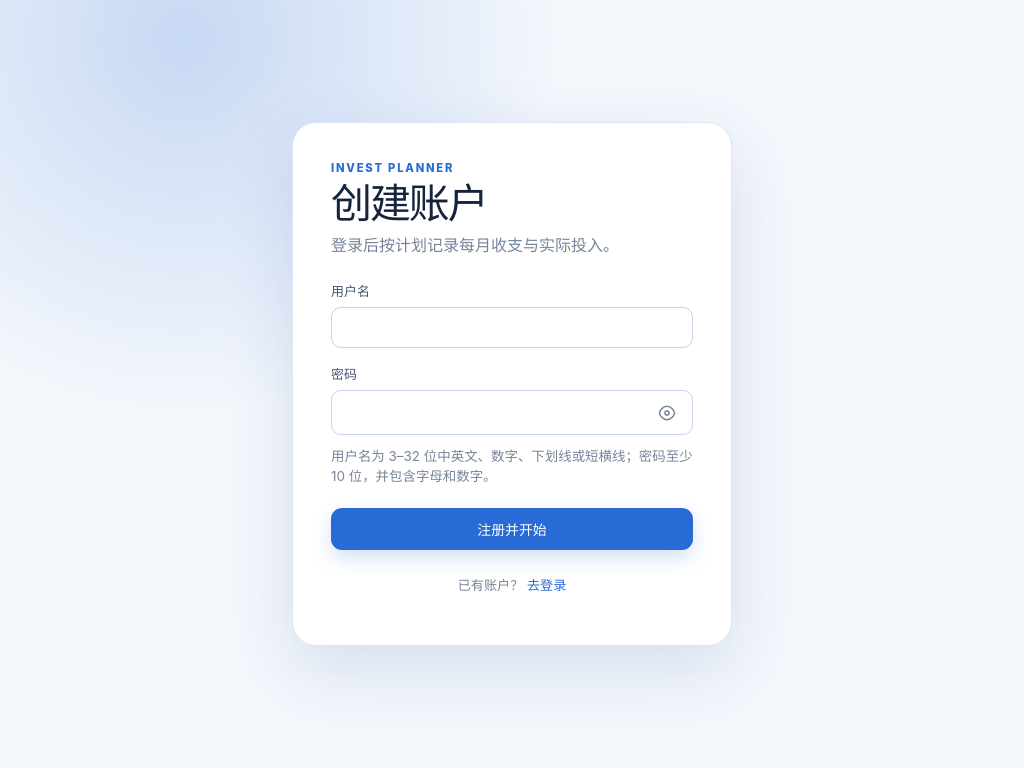
authentication routes › registers and safely opens the plan list
Type "new-user" into the field labelled "用户名" at (512, 328), box [331,307,693,348]
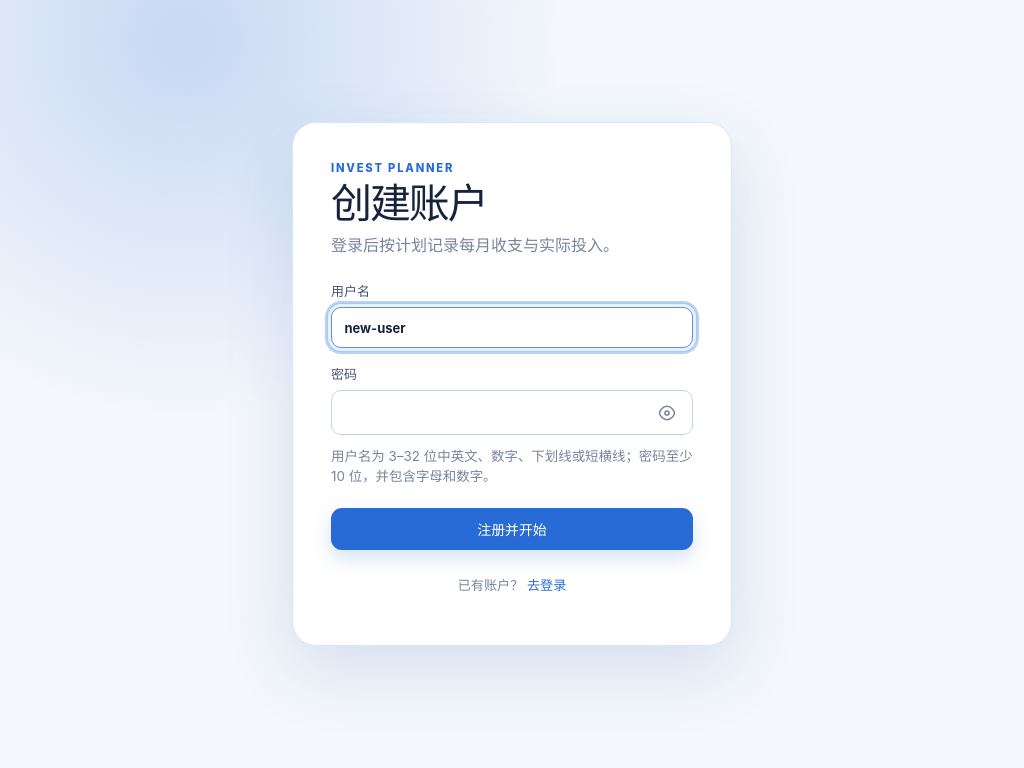
Type "securepass1" into the password field labelled "密码" at (512, 412), box [331,390,693,435]
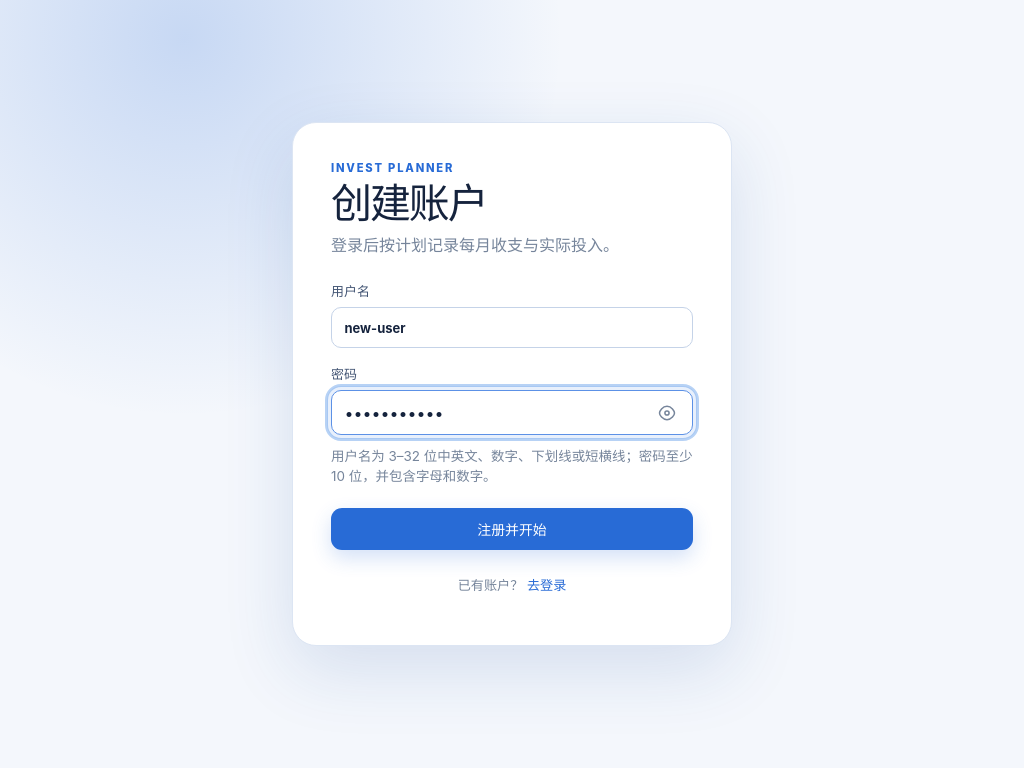
Click the button "注册并开始" at (512, 529), box [331,508,693,550]
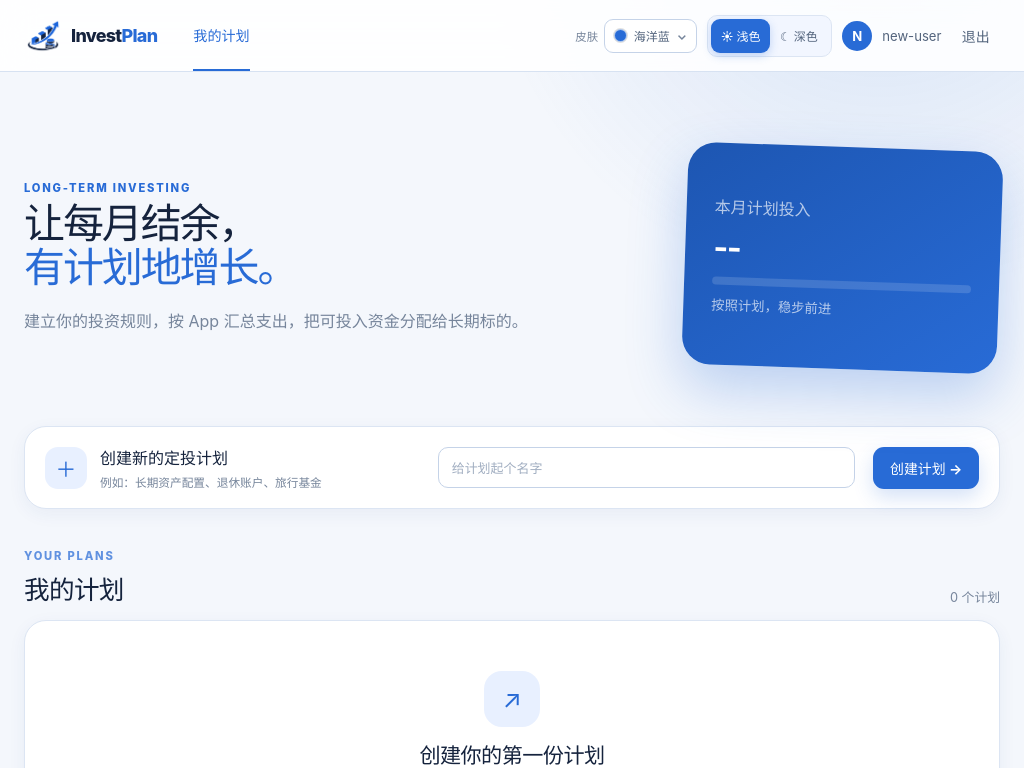
Check: the heading "让每月结余，有计划地增长。" is shown, box [24,198,296,292]
